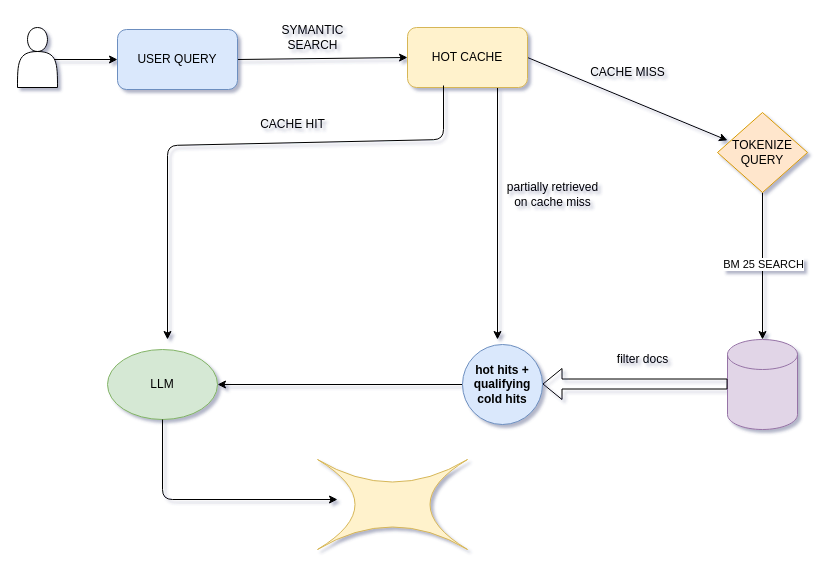
The diagram is 831 pixels wide and 573 high, and some of its shapes have lost their labels. Here are the shapes that lost their labels. From the top down, the centre of each, then its label:
At point 762,384: "MY SQL".
At point 392,504: "RESPONSE".
